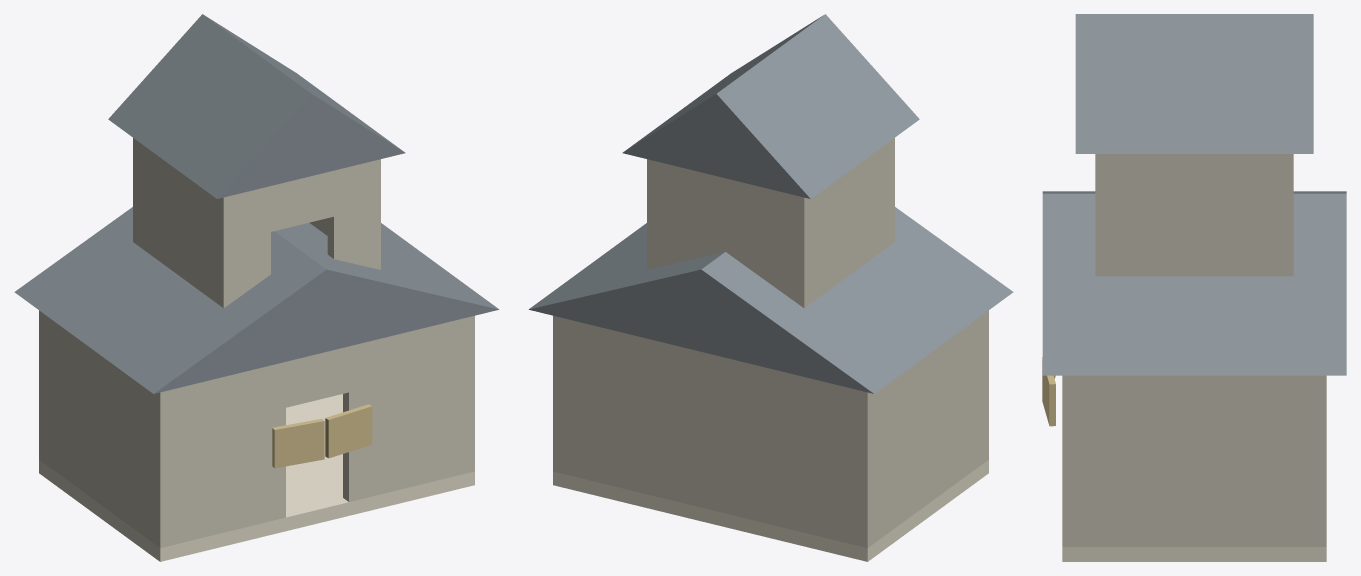
The model's file is library.glb.
The picture shows the model from 3 angles, left to right: view 1: azimuth 30°, elevation 25°; view 2: azimuth 150°, elevation 25°; view 3: azimuth 270°, elevation 25°; orthographic projection. The views are drawn at different scales.
Visible parts, largest first — view 1: library; view 2: library; view 3: library.
Boxes of the visible parts, x1=… form: library: x1=14, y1=14, x2=499, y2=561; library: x1=528, y1=14, x2=1013, y2=561; library: x1=1042, y1=14, x2=1346, y2=561.
Bounding box in the file's own units: 6.6 × 7.75 × 4.6.
